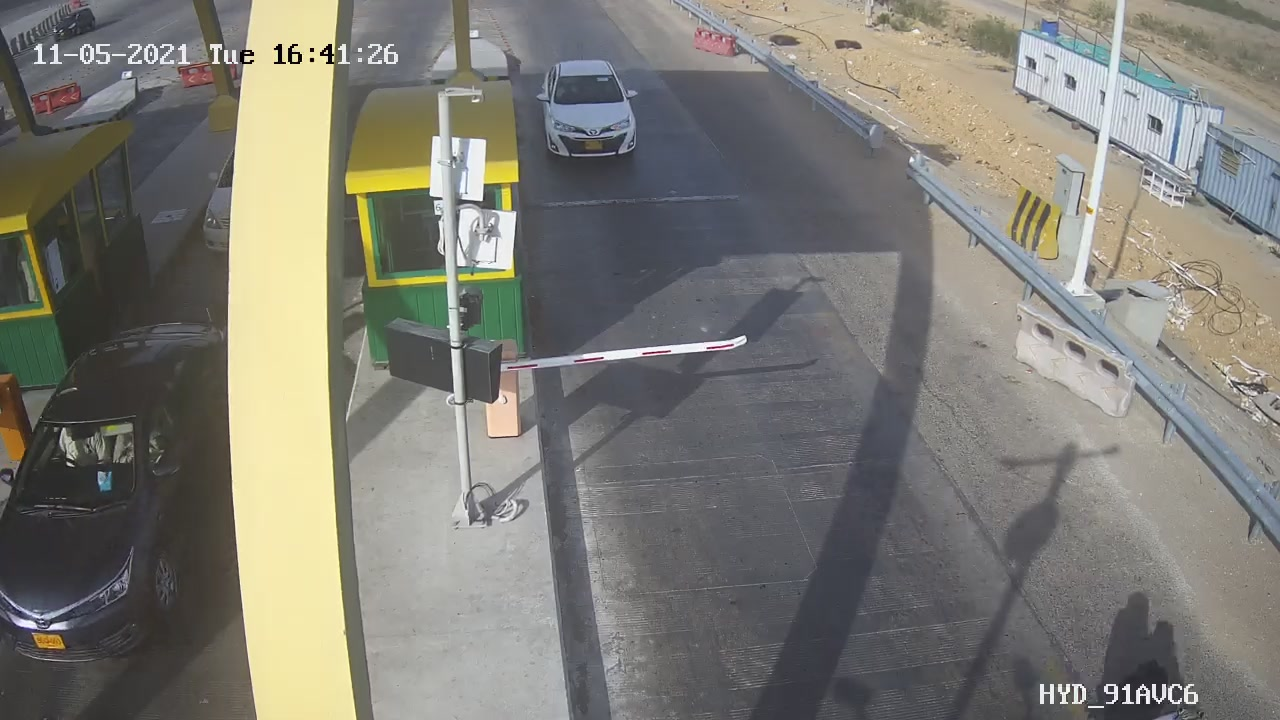F1: (522, 51, 664, 174)
